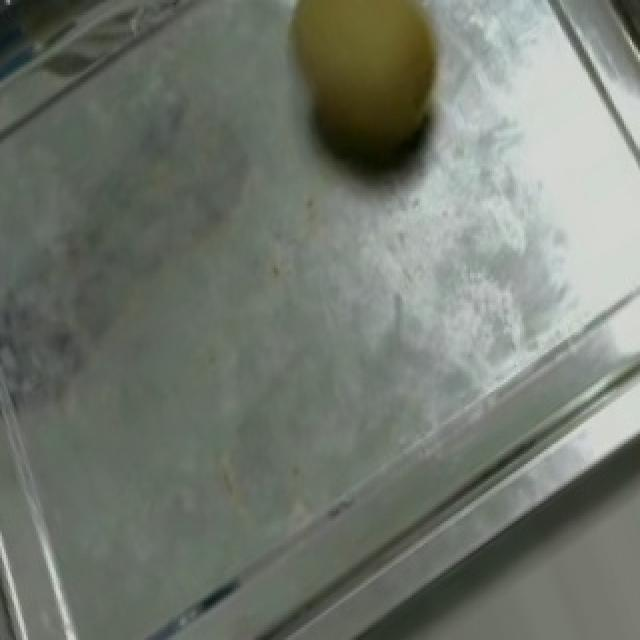Fruit: (252, 0, 482, 198)
